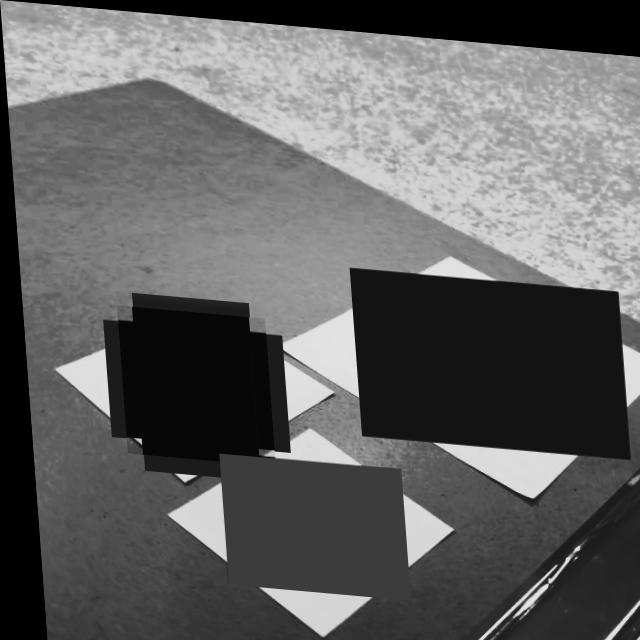qr_code: (346, 262, 624, 448), (212, 450, 402, 594), (113, 304, 269, 463)
